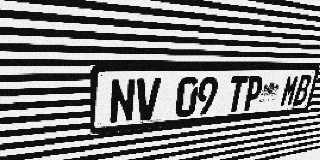0: (174, 77, 200, 118)
9: (195, 77, 219, 116)
B: (292, 75, 313, 106)
M: (279, 75, 300, 107)
N: (109, 78, 136, 124)
P: (242, 76, 264, 111)
T: (225, 76, 249, 113)
V: (135, 78, 161, 122)
